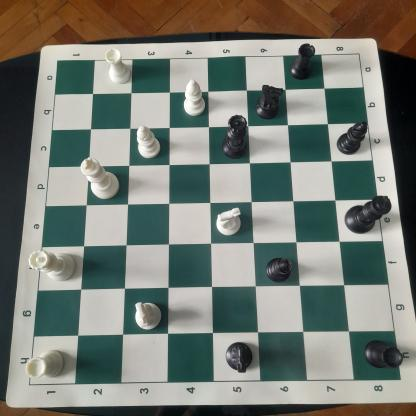black-bishop: (333, 121, 370, 158), (264, 254, 294, 286)
black-king: (342, 192, 393, 238)
black-knight: (224, 340, 256, 376), (254, 83, 284, 120)
black-queen: (220, 112, 250, 161)
black-rook: (361, 336, 403, 372), (288, 41, 316, 82)
white-bishop: (134, 121, 162, 160), (182, 78, 208, 116)
white-king: (78, 155, 121, 201)
white-knight: (133, 299, 164, 331), (216, 206, 243, 236)
white-queen: (27, 246, 78, 283)
white-rook: (23, 349, 69, 380), (104, 47, 132, 86)
